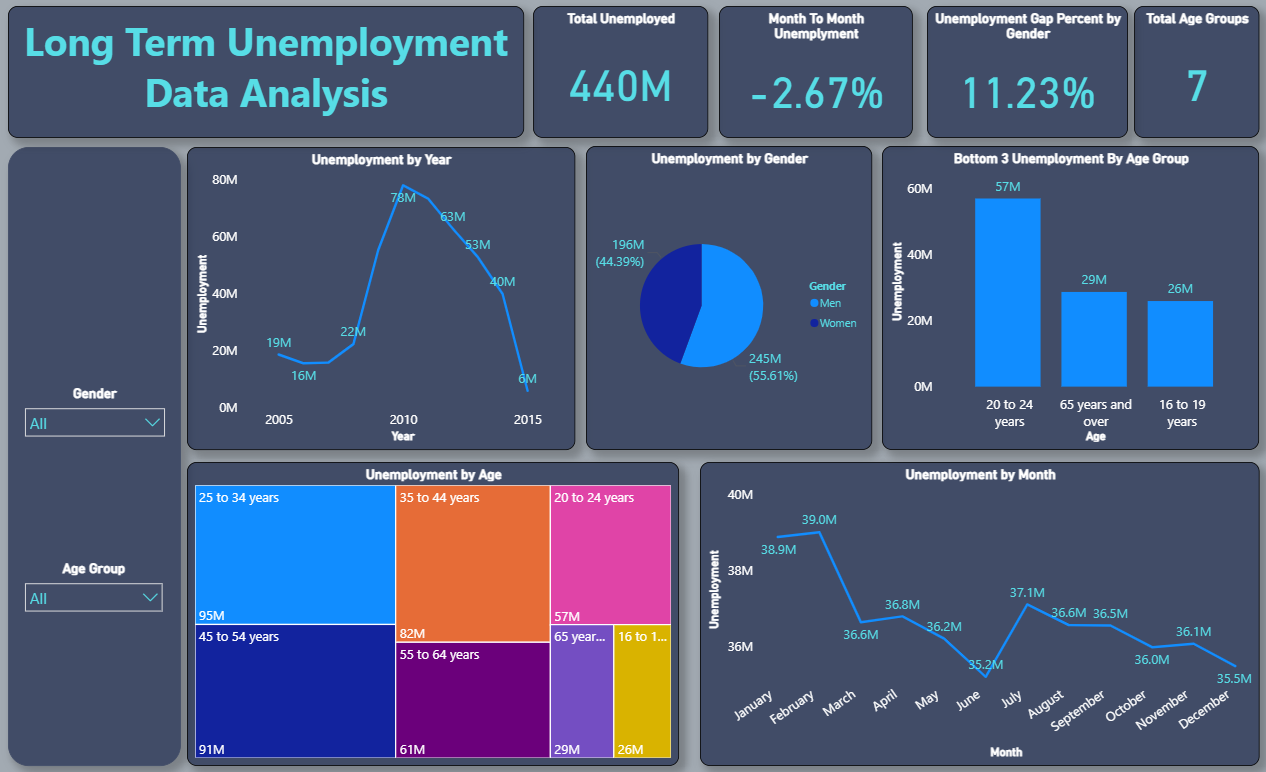

The dashboard page shown, as its layout file describes it:
{"tool":"powerbi","page":{"name":"Page 1","canvas":[1580,1000],"ordinal":0},"visuals":[{"type":"card","title":"Total Unemployed","fields":{"Values":["Sheet1.Total Unemployed"]},"box":[665.7,16,217.9,164.4],"z":0},{"type":"card","title":"Total Age Groups","fields":{"Values":["Sheet1.Total Age Groups"]},"box":[1412.9,16,156.4,164.4],"z":1000},{"type":"card","title":"Month To Month Unemplyment","fields":{"Values":["Sheet1.Month to month Unemployed"]},"box":[896.9,16,240.6,164.4],"z":2000},{"type":"shape","box":[12,191.2,215.2,769.9],"z":3000},{"type":"slicer","title":"Year & Month","fields":{"Values":["DateTable.MonthYear"]},"box":[24.1,291.4,191.2,108.3],"z":3000},{"type":"slicer","title":"Age Group","fields":{"Values":["Sheet1.Age"]},"box":[24.1,705.8,191.2,115],"z":4000},{"type":"lineChart","title":"Unemployment by Year","fields":{"Category":["DateTable.Year"],"Y":["Sheet1.Total Unemployed"]},"box":[235.3,191.2,482.6,377],"z":5000},{"type":"pieChart","title":"Unemployment by Gender","fields":{"Category":["Sheet1.Gender"],"Y":["Sheet1.Total Unemployed"]},"box":[731.2,189.8,355.6,378.3],"z":6000},{"type":"slicer","title":"Gender","fields":{"Values":["Sheet1.Gender"]},"box":[24.1,487.9,193.8,110.9],"z":6000},{"type":"treemap","title":"Unemployment by Age","fields":{"Values":["Sheet1.Total Unemployed"],"Group":["Sheet1.Age"]},"box":[235.3,582.8,612.2,378.3],"z":7000},{"type":"lineChart","title":"Unemployment by Month","fields":{"Y":["Sheet1.Total Unemployed"],"Category":["DateTable.MonthName"]},"box":[872.9,582.8,696.4,378.3],"z":8000},{"type":"card","title":"Unemployment Gap Percent by Gender","fields":{"Values":["Sheet1.Unemployment Gap %"]},"box":[1154.9,16,250,164.4],"z":9000},{"type":"columnChart","title":"Bottom 3 Unemployment By Age Group","fields":{"Category":["Sheet1.Age"],"Y":["Sum(Sheet1.Unemployed)"]},"box":[1100.1,189.8,469.2,378.3],"z":10000},{"type":"textbox","box":[12,16,641.6,164.4],"z":10001}]}

Visuals, with their boxes in screenshot pixels (x1, y1, x2, y2):
"Total Unemployed" card: Rect(525, 13, 697, 142)
"Total Age Groups" card: Rect(1114, 13, 1238, 142)
"Month To Month Unemplyment" card: Rect(707, 13, 897, 142)
shape: Rect(9, 151, 179, 758)
"Year & Month" slicer: Rect(19, 230, 170, 315)
"Age Group" slicer: Rect(19, 557, 170, 647)
"Unemployment by Year" lineChart: Rect(186, 151, 566, 448)
"Unemployment by Gender" pieChart: Rect(577, 150, 857, 448)
"Gender" slicer: Rect(19, 385, 172, 472)
"Unemployment by Age" treemap: Rect(186, 460, 668, 758)
"Unemployment by Month" lineChart: Rect(689, 460, 1238, 758)
"Unemployment Gap Percent by Gender" card: Rect(911, 13, 1108, 142)
"Bottom 3 Unemployment By Age Group" columnChart: Rect(868, 150, 1238, 448)
textbox: Rect(9, 13, 516, 142)
